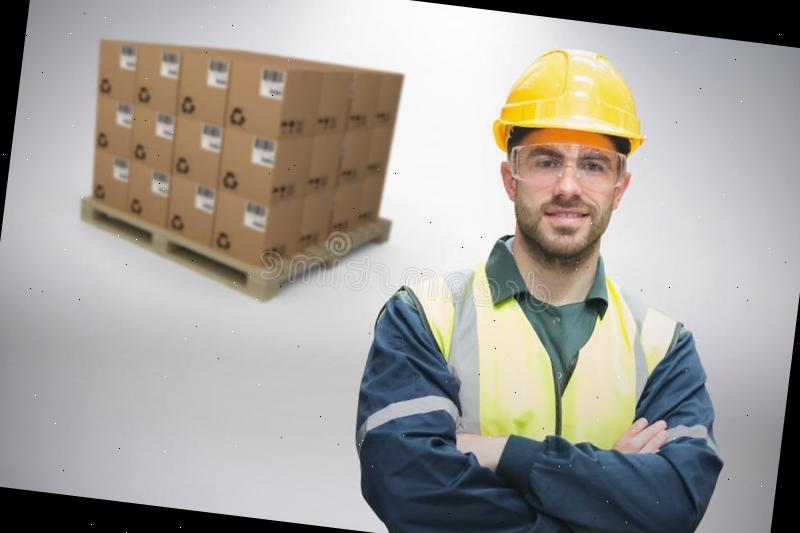helmet: (488, 42, 652, 156)
wear: (357, 265, 699, 533)
